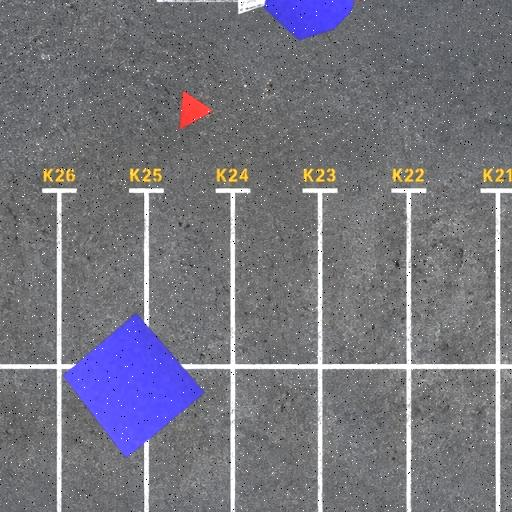BLUE_SQUARE: (62, 312, 206, 459)
